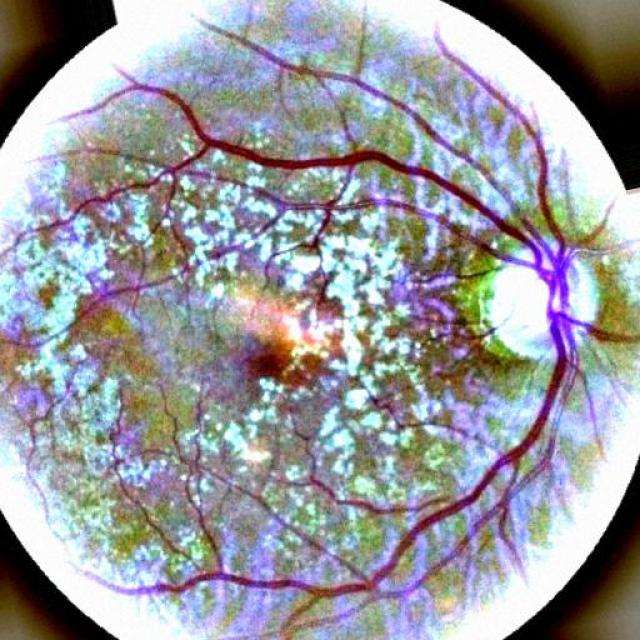Macula: (248, 339, 291, 379)
Nerves: (0, 19, 634, 596)
Optic Disk: (481, 240, 598, 359)
